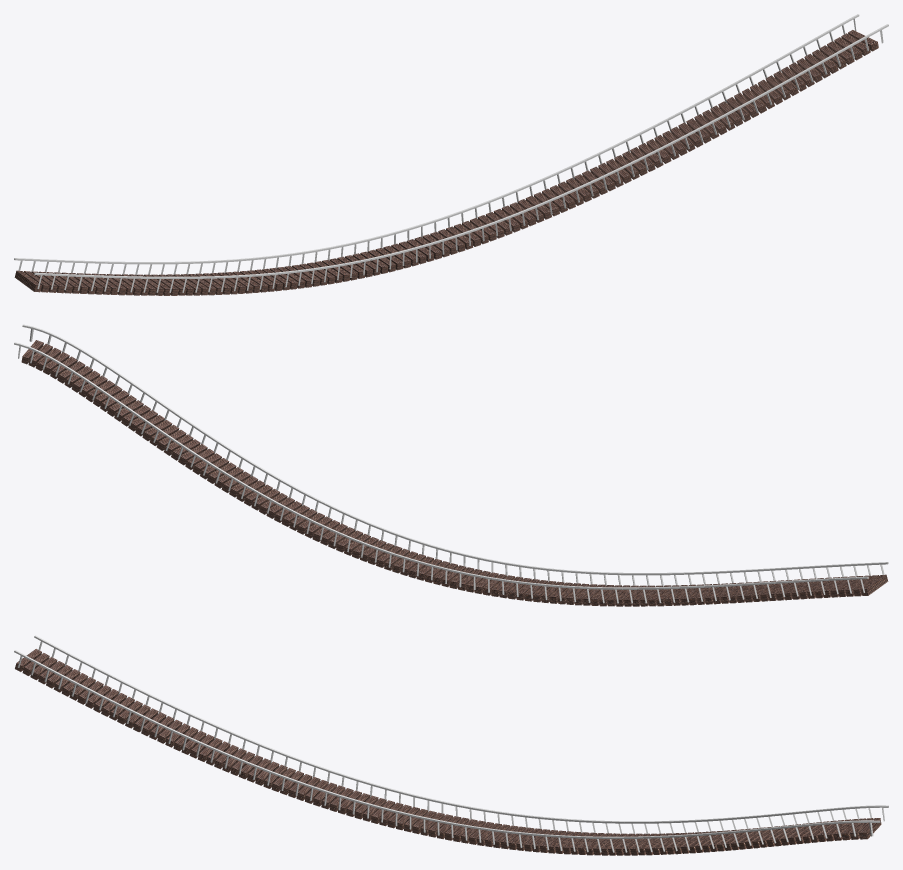
The model's file is ponte.fbx.
The picture shows the model from 3 angles, top to bottom: view 1: azimuth 30°, elevation 25°; view 2: azimuth 150°, elevation 25°; view 3: azimuth 330°, elevation 25°; orthographic projection.
Parts seen in each view (by area): view 1: ponte; view 2: ponte; view 3: ponte.
Boxes of the visible parts, x1=… form: ponte: x1=14, y1=14, x2=888, y2=295; ponte: x1=14, y1=324, x2=888, y2=606; ponte: x1=14, y1=635, x2=888, y2=855.
Bounding box in the file's own units: 27311 × 4038 × 2030.
